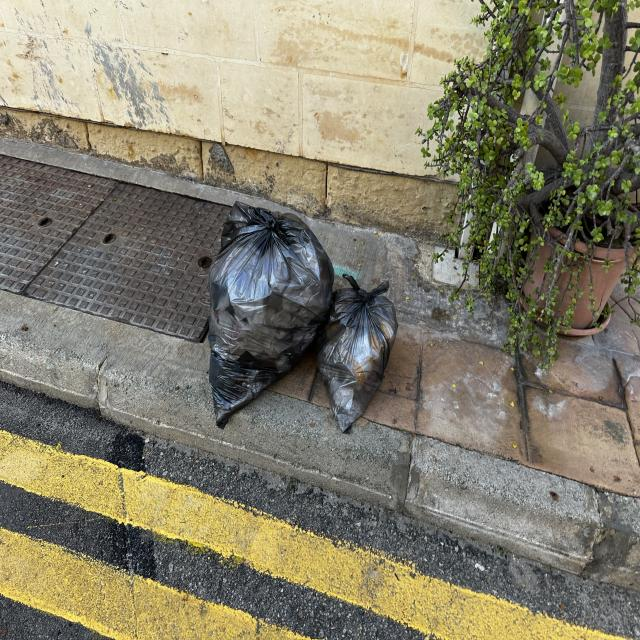Mixed Waste -Black Bags-: (207, 200, 399, 435)
